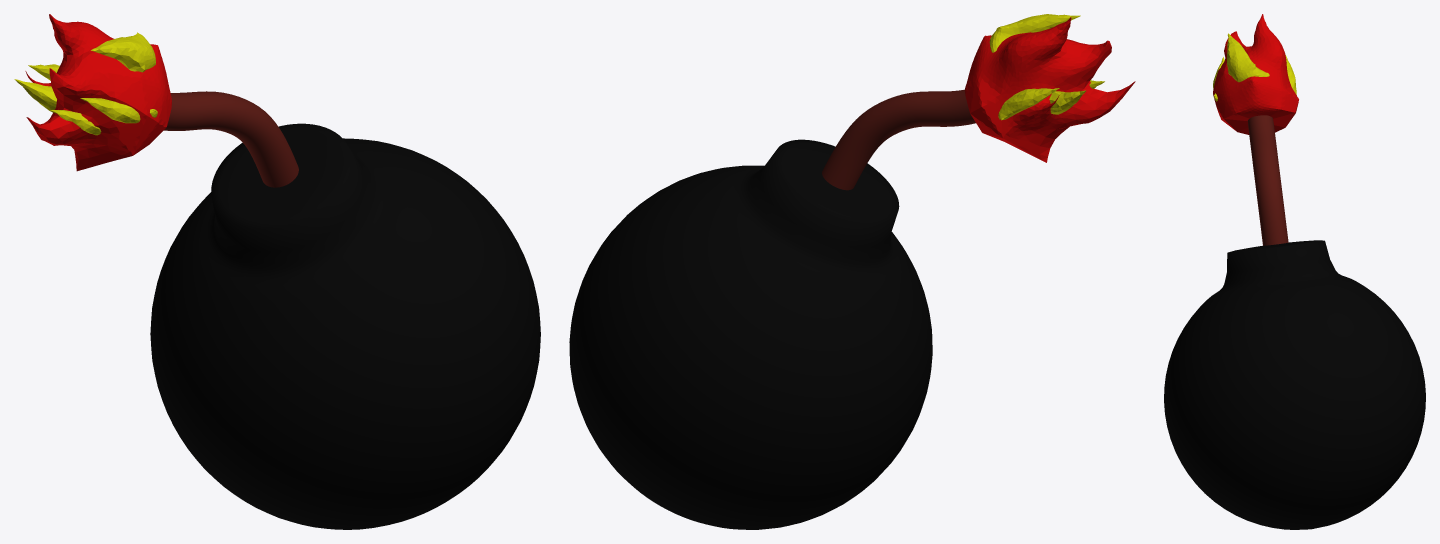
The model's file is bomb.obj.
3 views of the same model, side by side, from view 1: azimuth 30°, elevation 25°; view 2: azimuth 150°, elevation 25°; view 3: azimuth 270°, elevation 25° (orthographic). The views are drawn at different scales.
Visible parts, largest first — view 1: Sphere.001; view 2: Sphere.001; view 3: Sphere.001.
Part boxes in pixels (x1,y1,x2,y2): Sphere.001: (14, 14, 540, 529); Sphere.001: (569, 14, 1135, 529); Sphere.001: (1164, 14, 1425, 529).
Bounding box in the file's own units: 2.54 × 2.69 × 1.6.
